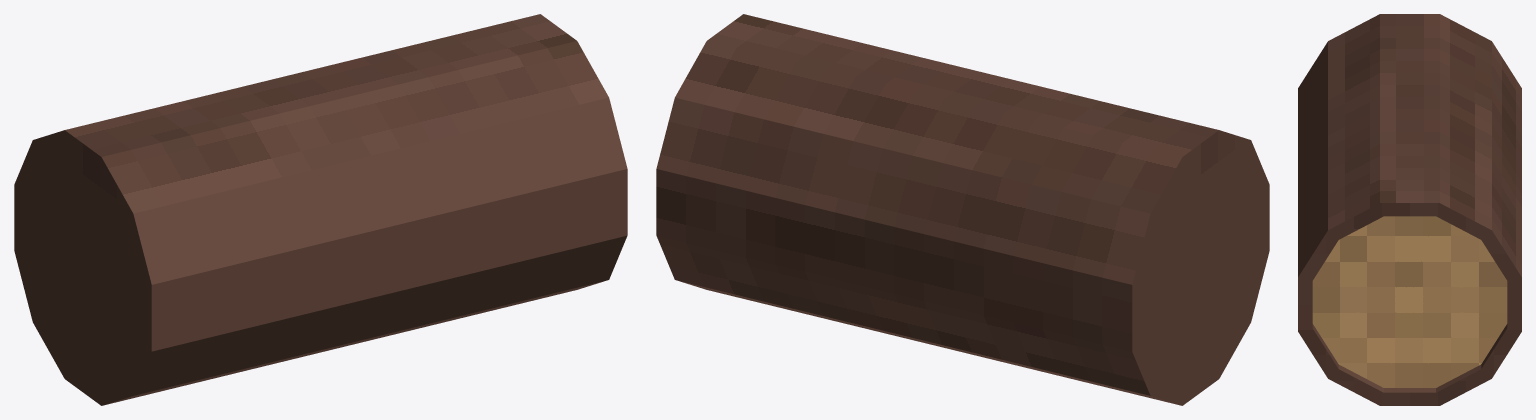
Rendered from TreeItem.fbx.
3 renders of one model, left to right at view 1: azimuth 30°, elevation 25°; view 2: azimuth 150°, elevation 25°; view 3: azimuth 270°, elevation 25°, orthographic. The views are drawn at different scales.
Visible parts, largest first — view 1: TreeLog; view 2: TreeLog; view 3: TreeLog.
Part boxes in pixels (<box>): TreeLog: <box>14,14,627,405</box>; TreeLog: <box>656,14,1269,405</box>; TreeLog: <box>1298,14,1521,405</box>.
Size of the model in its own units: 100 by 50 by 50.
Materials: 1 (1 with a texture image).
